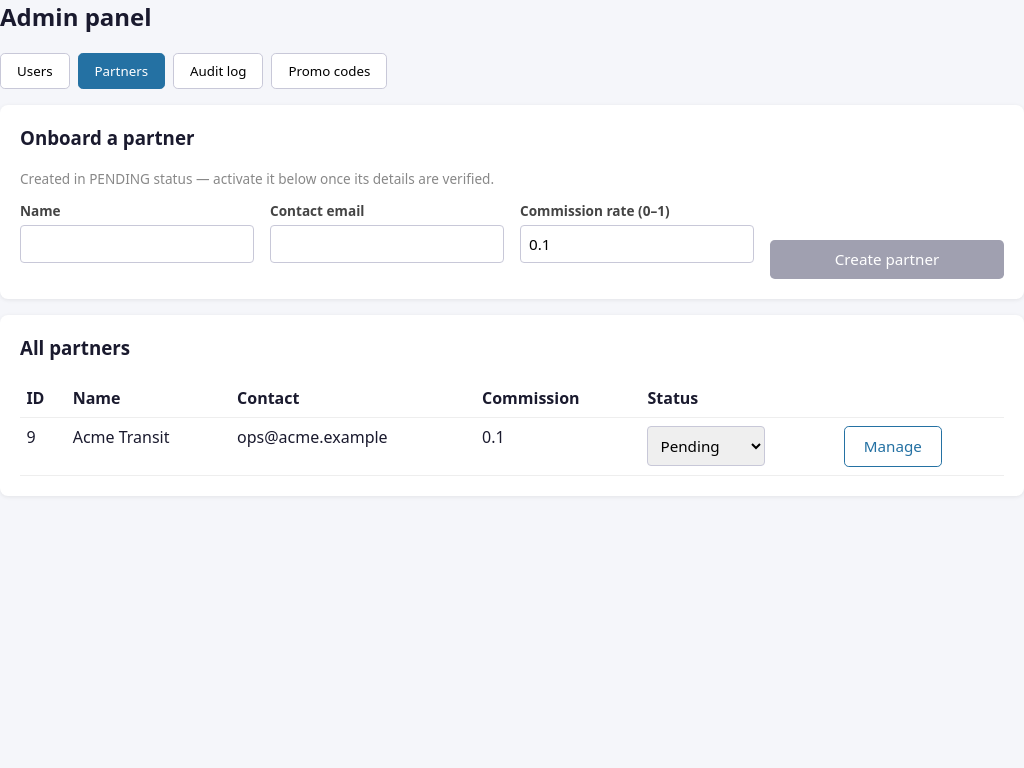
Test: AdminPanelComponent › partners tab template › shows a confirm dialog for a partner status change without submitting it
The width and height of the screenshot is (1024, 768).
Select "Active" in the dropdown named "Status for Acme Transit" at point(706, 446), box [648,426,766,466]
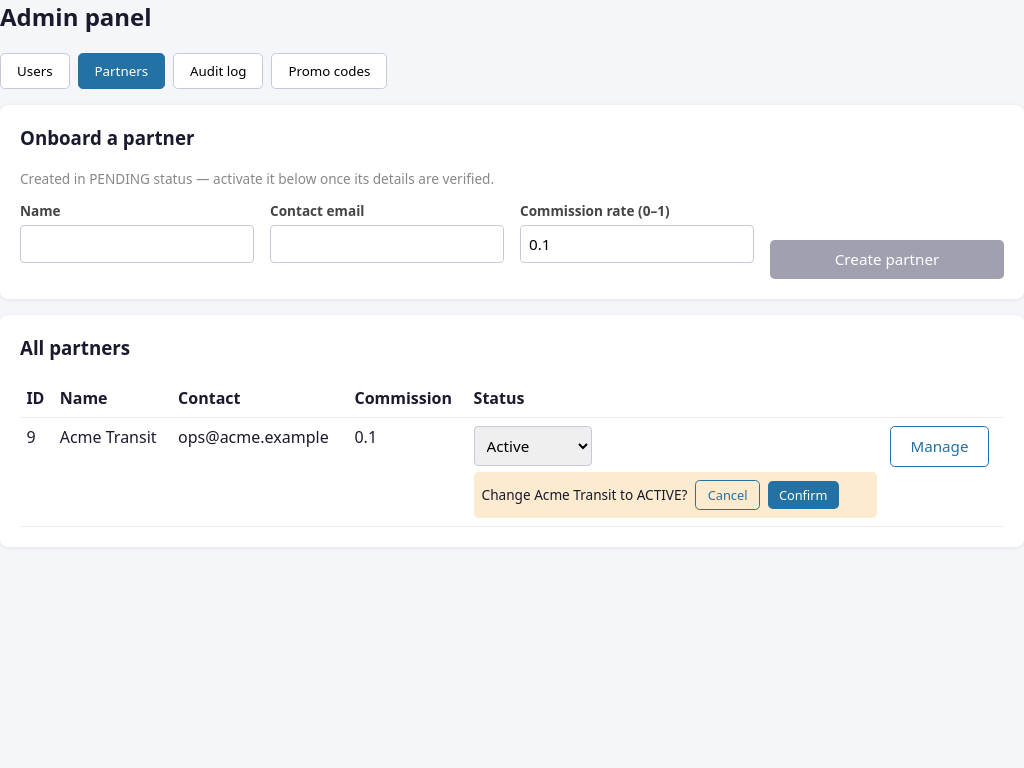
Expected: the dialog named "Confirm partner status change" shows "Change Acme Transit to ACTIVE?", [482,485,688,504]
